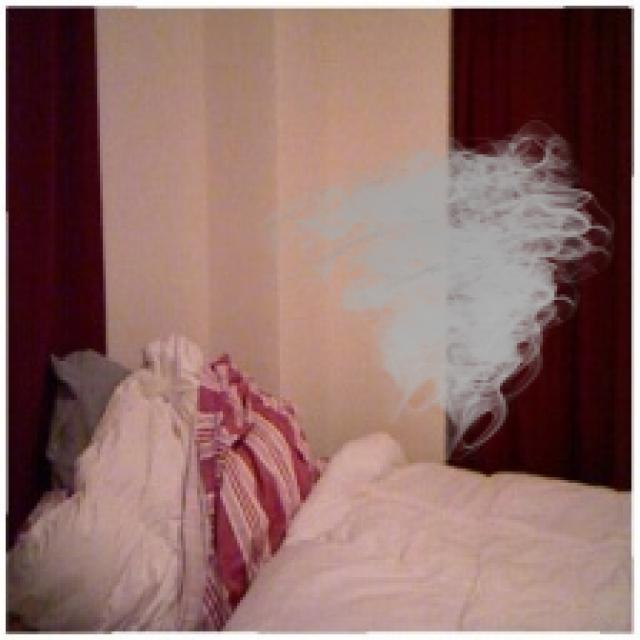Smoke: (257, 111, 626, 460)
